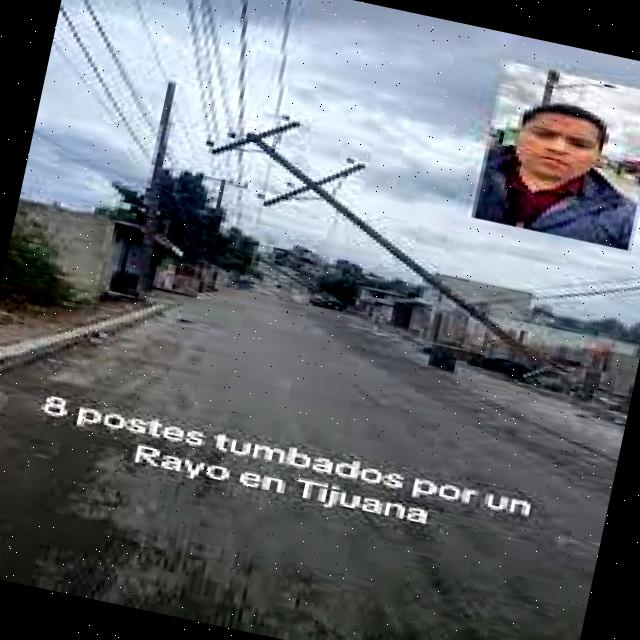Broken Pole: (190, 113, 562, 370)
